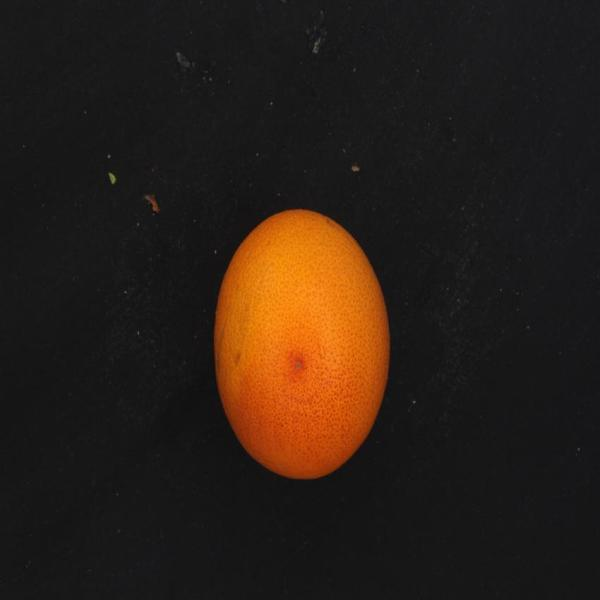Sana: (194, 189, 411, 493)
